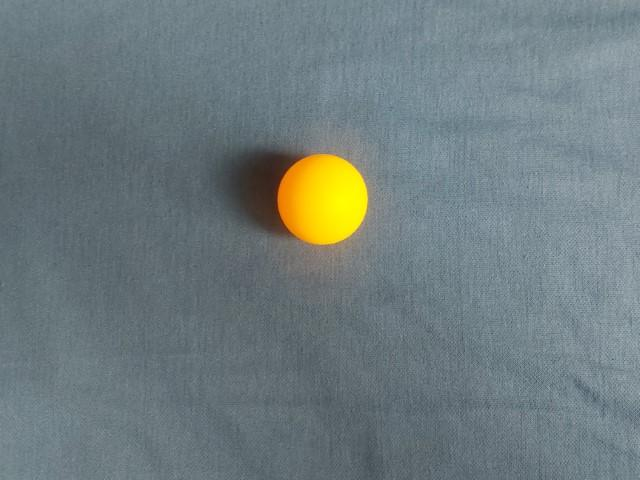oball: (266, 231, 369, 331)
